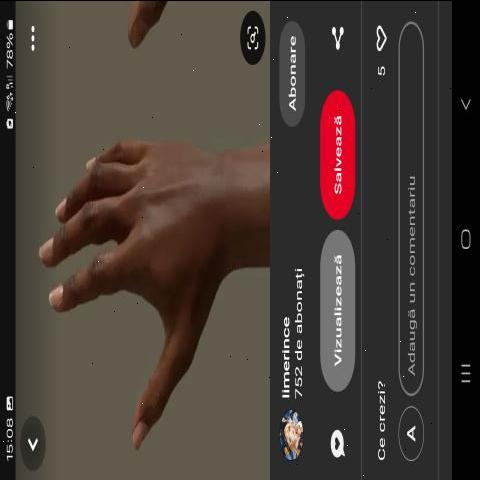Hands: (31, 95, 253, 464)
